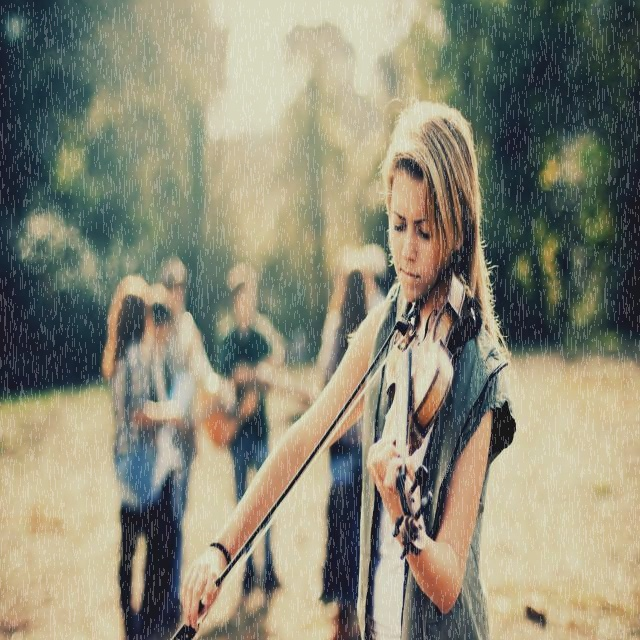pessoa: (182, 92, 518, 640), (317, 264, 386, 615), (319, 270, 383, 640), (111, 292, 177, 638), (219, 265, 286, 592), (144, 254, 226, 520), (145, 300, 175, 402)
